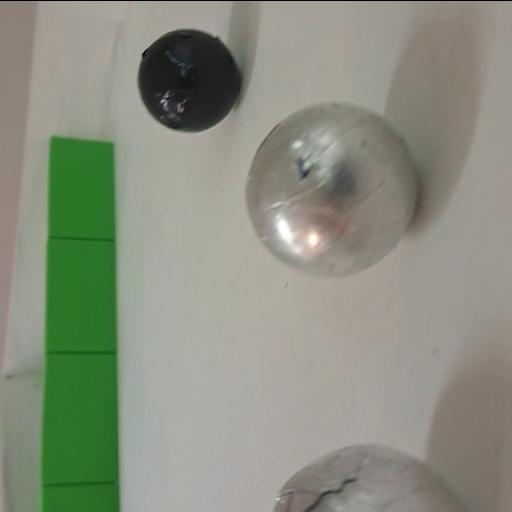alive: (243, 100, 421, 278), (269, 444, 480, 512)
dead: (137, 29, 241, 133)
